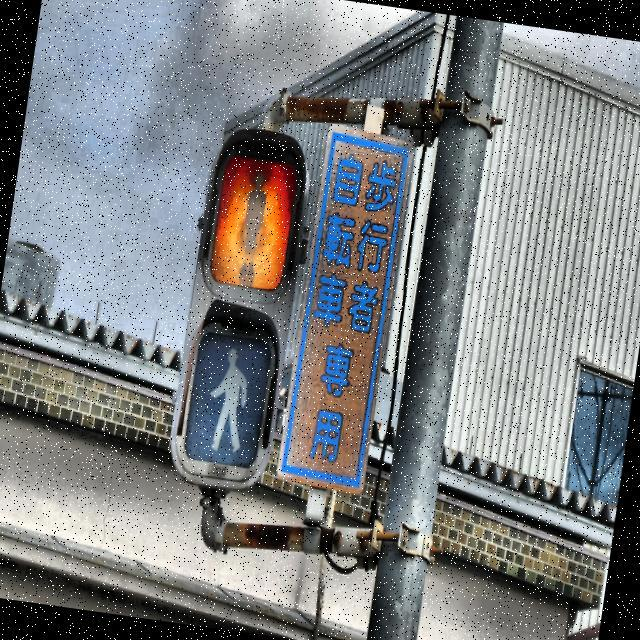red_light: (230, 164, 274, 288)
